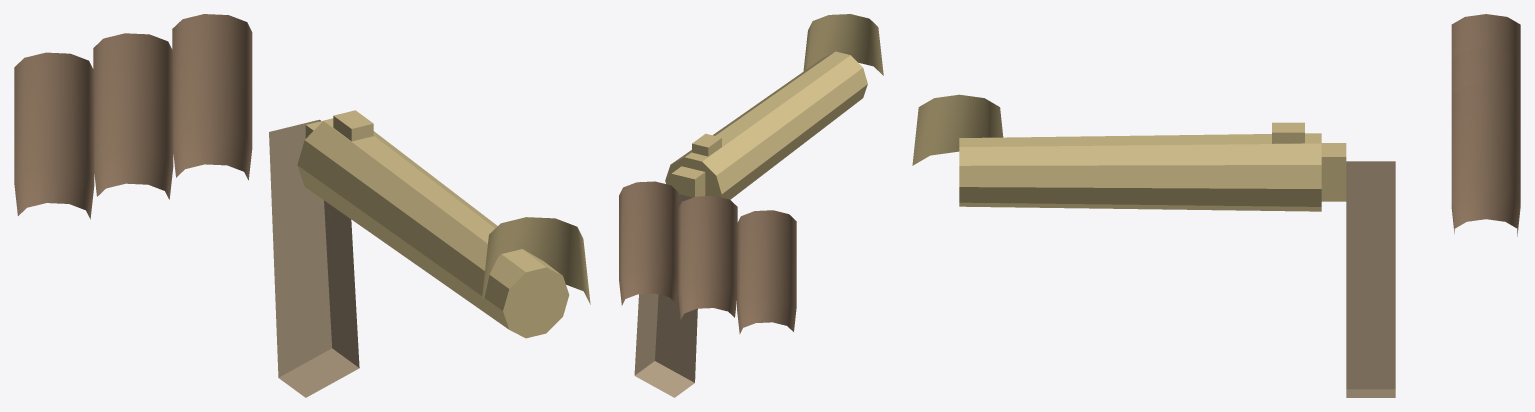
The model's file is trench-line-1917-flare-pistol-9fff2c4e__24101.glb.
3 renders of one model, left to right at view 1: azimuth 30°, elevation 25°; view 2: azimuth 150°, elevation 25°; view 3: azimuth 270°, elevation 25°, orthographic. The views are drawn at different scales.
Visible parts, largest first — view 1: flare-pistol; view 2: flare-pistol; view 3: flare-pistol.
Part boxes in pixels (<box>): flare-pistol: <box>14,14,590,397</box>; flare-pistol: <box>619,14,883,397</box>; flare-pistol: <box>912,14,1520,397</box>.
Size of the model in its own units: 0.172 by 0.19 by 0.3695.
